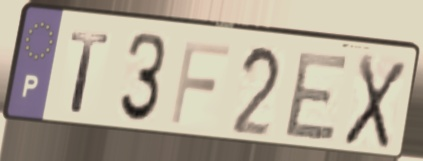2: (227, 43, 287, 139)
3: (118, 31, 169, 127)
E: (280, 49, 353, 143)
F: (167, 37, 233, 128)
T: (68, 28, 113, 116)
X: (340, 50, 410, 153)
